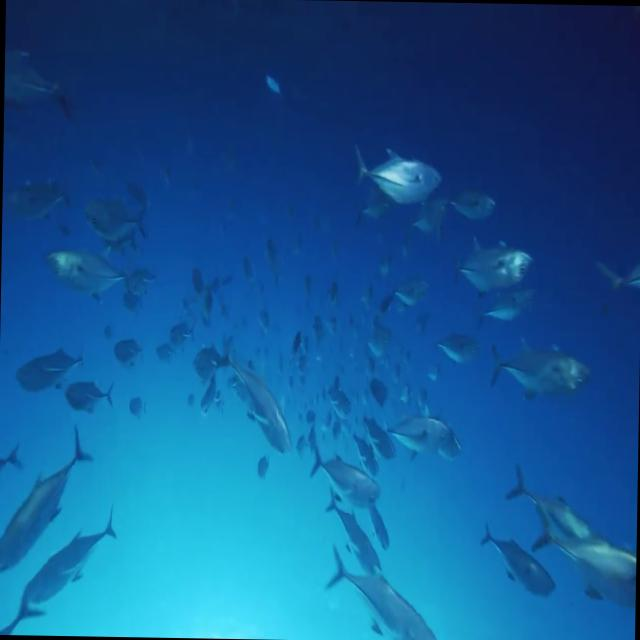fish: (0, 521, 123, 634), (0, 433, 90, 574), (325, 559, 441, 640), (214, 343, 293, 458), (504, 470, 594, 564), (476, 520, 555, 600), (307, 432, 384, 510), (486, 348, 593, 404), (43, 244, 133, 304), (354, 148, 444, 203), (447, 230, 526, 292), (62, 370, 114, 418)
